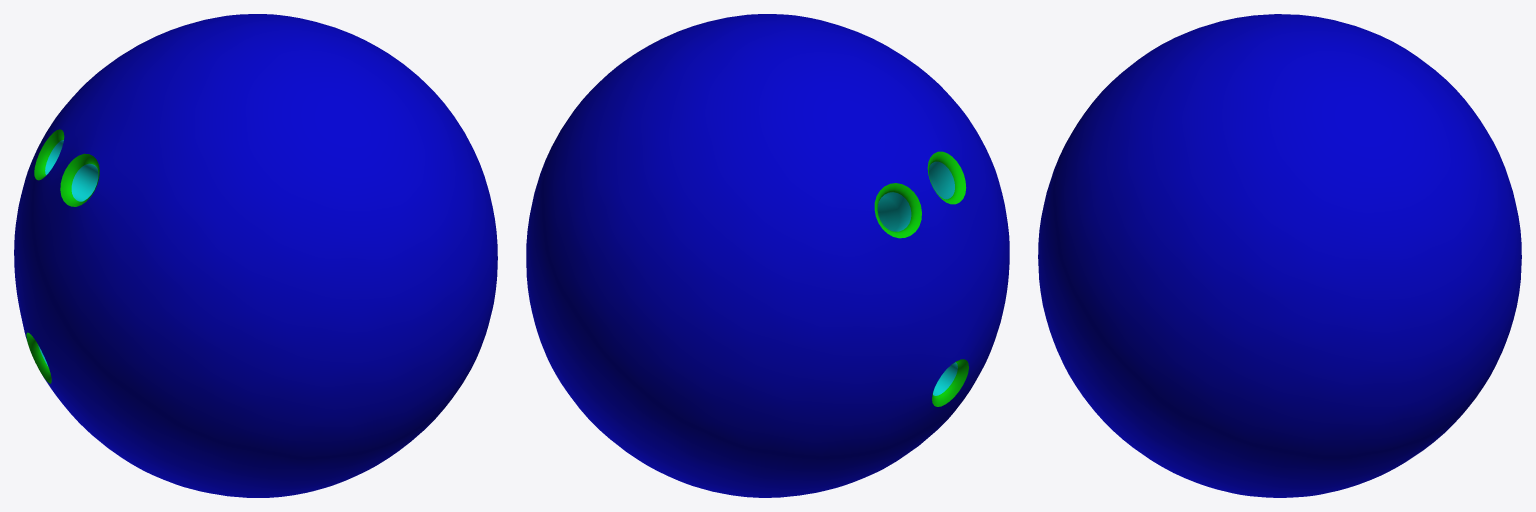
The picture shows the model from 3 angles, left to right: view 1: azimuth 30°, elevation 25°; view 2: azimuth 150°, elevation 25°; view 3: azimuth 270°, elevation 25°; orthographic projection.
Parts seen in each view (by area): view 1: Bowling Ball; view 2: Bowling Ball; view 3: Bowling Ball.
Boxes of the visible parts, left/top/right/bottom form: Bowling Ball: left=14, top=14, right=497, bottom=497; Bowling Ball: left=526, top=14, right=1009, bottom=497; Bowling Ball: left=1038, top=14, right=1521, bottom=497.
Size of the model in its own units: 0.268 by 0.2695 by 0.2679.
